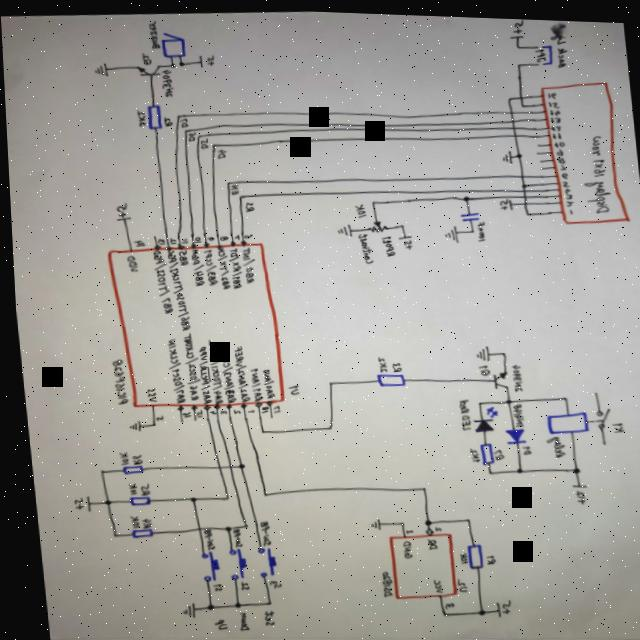capacitor: (456, 208, 479, 220)
crossover: (221, 462, 228, 469), (516, 92, 523, 97), (210, 463, 217, 468), (520, 191, 526, 196), (509, 123, 516, 127), (518, 186, 525, 190), (519, 198, 526, 202), (509, 116, 515, 120), (517, 171, 523, 175), (510, 130, 516, 134), (507, 107, 513, 111), (190, 526, 196, 530)
diode: (466, 402, 494, 430), (499, 424, 523, 442)
ground: (173, 600, 191, 619), (92, 61, 110, 79), (441, 222, 457, 241), (333, 220, 351, 236), (470, 342, 486, 360), (361, 515, 378, 529), (498, 146, 512, 162), (122, 419, 137, 432)
junction: (199, 601, 209, 610), (97, 498, 107, 506), (418, 516, 428, 524), (469, 605, 479, 613), (556, 391, 566, 399), (459, 192, 469, 199), (566, 463, 576, 470), (509, 464, 519, 471), (434, 608, 443, 615), (367, 197, 375, 204), (259, 598, 267, 605), (458, 514, 467, 520), (176, 61, 185, 67), (517, 179, 526, 185), (322, 378, 329, 385), (232, 462, 240, 468), (183, 495, 191, 501), (514, 59, 522, 65), (522, 208, 530, 214), (504, 93, 512, 99), (513, 149, 521, 155), (227, 601, 235, 607), (93, 468, 100, 474), (105, 532, 112, 538), (514, 41, 521, 47), (217, 494, 225, 499), (393, 519, 400, 524), (254, 428, 261, 433), (500, 396, 507, 401), (168, 62, 175, 67), (219, 525, 226, 530), (256, 491, 262, 496), (174, 113, 180, 118), (518, 100, 524, 105), (482, 468, 489, 472), (415, 484, 422, 488), (322, 424, 329, 428), (396, 221, 403, 225), (497, 349, 503, 353), (146, 423, 152, 427), (209, 142, 215, 146), (181, 128, 187, 132), (235, 194, 241, 198), (237, 522, 243, 526), (472, 398, 478, 402), (466, 226, 472, 230), (194, 134, 199, 138), (224, 180, 229, 184)
resistor: (371, 370, 402, 386), (459, 541, 477, 566), (145, 104, 161, 130), (473, 439, 489, 462), (365, 216, 386, 231), (124, 527, 148, 539), (116, 464, 139, 476), (123, 494, 146, 506)
switch: (250, 545, 272, 577), (221, 546, 242, 579), (194, 549, 215, 582), (533, 39, 553, 63)
terminal: (79, 495, 86, 512), (196, 53, 204, 67), (488, 598, 495, 614), (565, 479, 583, 485), (394, 232, 410, 238), (113, 216, 129, 221), (505, 196, 512, 207), (509, 31, 524, 36)
text: (576, 131, 611, 211), (163, 247, 188, 331), (160, 334, 182, 405), (178, 331, 199, 400), (148, 249, 170, 314), (228, 343, 247, 402), (203, 338, 219, 402), (215, 346, 232, 403), (548, 17, 568, 65), (105, 357, 124, 407), (209, 246, 231, 287), (193, 345, 208, 403), (222, 247, 243, 287), (237, 245, 254, 285), (256, 367, 275, 400), (187, 248, 203, 286), (199, 248, 215, 285), (354, 230, 372, 262), (244, 366, 260, 401), (539, 432, 562, 455), (505, 360, 521, 390), (453, 396, 468, 428), (159, 68, 174, 98), (377, 232, 394, 256), (146, 20, 160, 49), (373, 567, 387, 596), (507, 400, 521, 425), (253, 519, 266, 545), (229, 609, 244, 631), (121, 254, 137, 273), (197, 527, 210, 550), (395, 537, 409, 557), (372, 353, 386, 371), (473, 219, 485, 240), (140, 387, 155, 403), (510, 15, 526, 30), (351, 200, 365, 217), (113, 202, 127, 219), (256, 608, 269, 626), (463, 443, 476, 461), (532, 43, 546, 59), (134, 109, 146, 127), (174, 248, 186, 266), (226, 527, 237, 546), (605, 417, 621, 430), (450, 574, 462, 591), (283, 381, 297, 395), (132, 482, 146, 496), (426, 576, 439, 591), (122, 514, 135, 529), (494, 595, 506, 611), (569, 485, 581, 501), (112, 451, 125, 465), (206, 618, 221, 630), (487, 445, 500, 458), (125, 453, 139, 465), (203, 52, 215, 66), (386, 359, 399, 371), (67, 497, 79, 510), (473, 361, 486, 373), (495, 194, 507, 207), (478, 551, 491, 563), (514, 441, 528, 452), (420, 536, 432, 548), (196, 136, 208, 148), (134, 517, 146, 529), (122, 482, 133, 495), (140, 52, 151, 64), (226, 183, 238, 194), (241, 200, 253, 211), (176, 116, 187, 128), (400, 236, 411, 248), (161, 115, 172, 127), (263, 577, 276, 587), (214, 148, 225, 159), (185, 131, 196, 142), (233, 579, 244, 590), (453, 549, 463, 561), (129, 239, 143, 247), (545, 97, 559, 105), (437, 598, 449, 607), (547, 104, 559, 113), (206, 582, 216, 592), (548, 112, 560, 120), (548, 120, 560, 128), (267, 403, 276, 413), (554, 152, 564, 161), (549, 128, 560, 136), (551, 137, 563, 144), (554, 144, 562, 153), (546, 88, 556, 95), (177, 410, 187, 417), (240, 232, 250, 239), (216, 235, 227, 241), (191, 409, 199, 417), (256, 404, 264, 412), (166, 236, 174, 244), (562, 197, 572, 203), (151, 414, 159, 421), (155, 238, 163, 245), (191, 236, 200, 242), (399, 526, 408, 532), (428, 523, 437, 529), (559, 178, 568, 184), (557, 161, 566, 167), (229, 407, 237, 413), (178, 237, 186, 243), (563, 190, 571, 196), (559, 169, 567, 175), (231, 233, 237, 240), (561, 184, 568, 190), (204, 409, 212, 414), (215, 409, 223, 414), (242, 408, 251, 412), (203, 236, 212, 240), (566, 204, 571, 210)
transistor: (134, 63, 160, 77), (487, 367, 505, 386)
